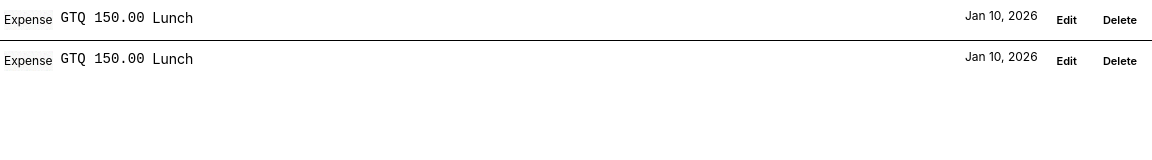
Test: ExecutionRecordRow.vue › confirm state is row-local: one row entering confirm does not affect others
What coordinates should you click on to do the following:
click the 1st button with test id "delete-record-btn"
I would click on:
 (1120, 20)
Its box is [1092,8,1148,32].
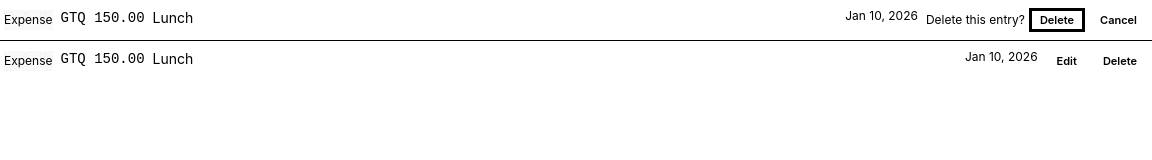
Check: the number of buttons with test id "delete-record-btn" is 1, box [1092,49,1148,73]
Check: the number of buttons with test id "delete-record-confirm-btn" is 1, box [1029,8,1085,32]
